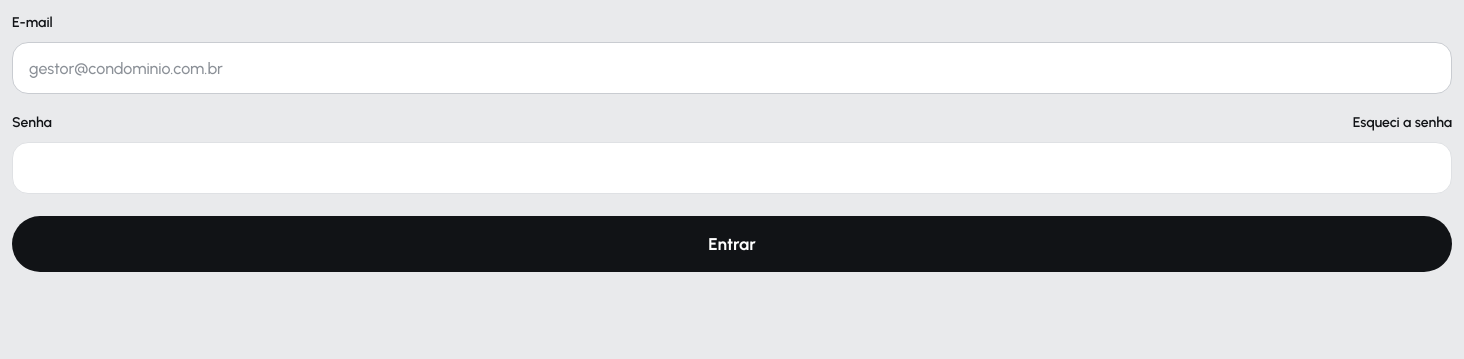
Test case: LoginForm › asks the visitor to wait when rate limited
The image size is (1464, 359).
Type "marina@example.com" into the field labelled "E-mail". click: coordinates (732, 68)
box: [12, 42, 1452, 94]
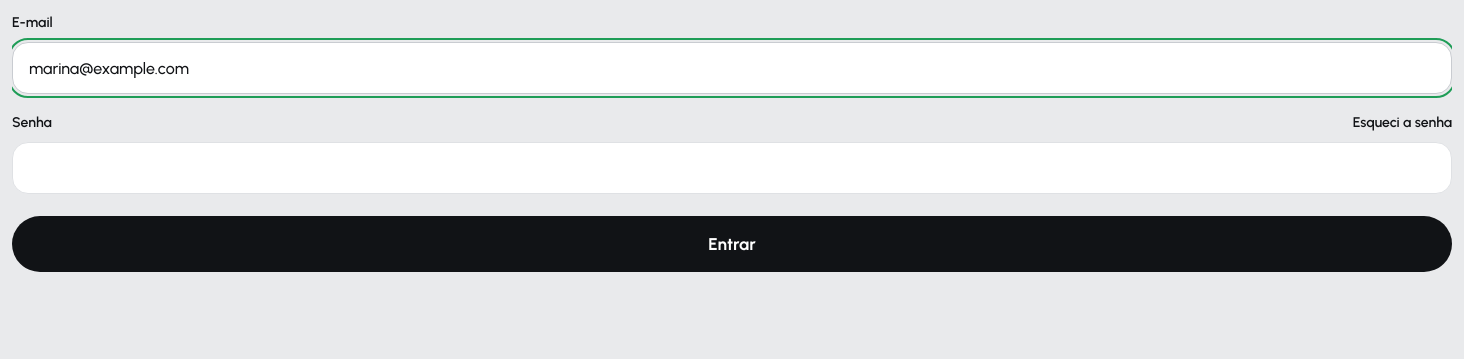
Type "s3cure-passw0rd" into the password field labelled "Senha". click: coordinates (732, 168)
box: [12, 142, 1452, 194]
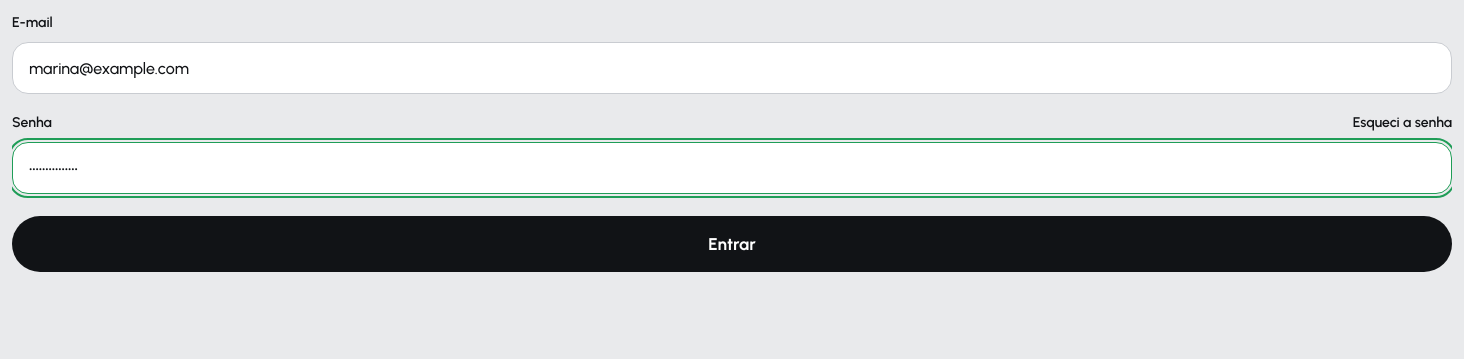
Click the button "Entrar". click: coordinates (732, 244)
box: [12, 216, 1452, 272]
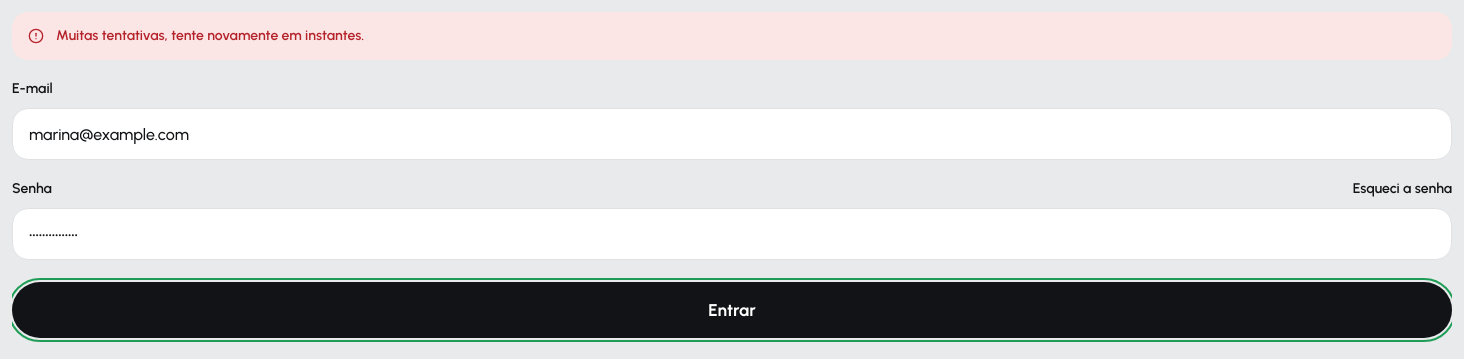
Expected: the message reads "Muitas tentativas, tente novamente em instantes.", [56, 27, 364, 44]
